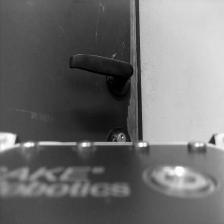Door Handle: (68, 52, 132, 104)
Lock: (105, 129, 132, 142)
